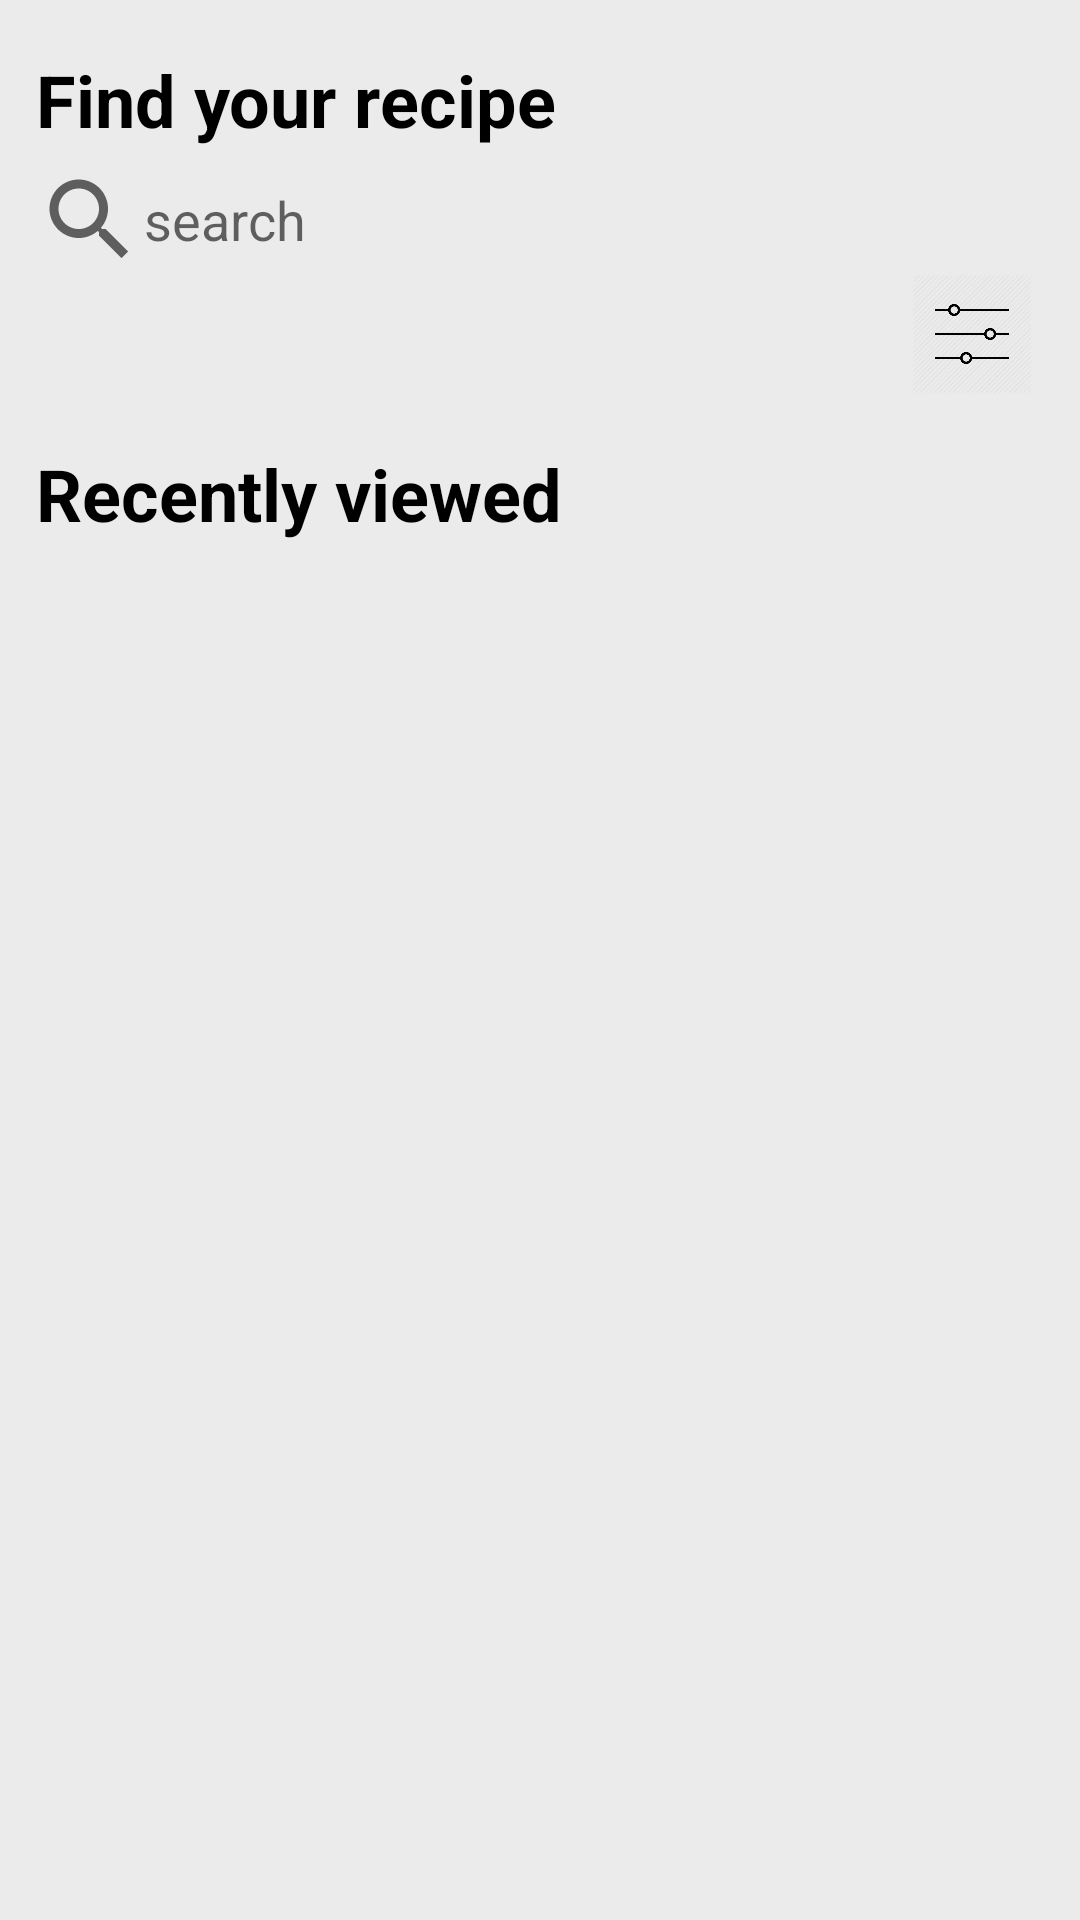

Where to tap for icons on this 1080 × 1920 app screen, as (x=x, y=y):
filter: (x=972, y=334)
